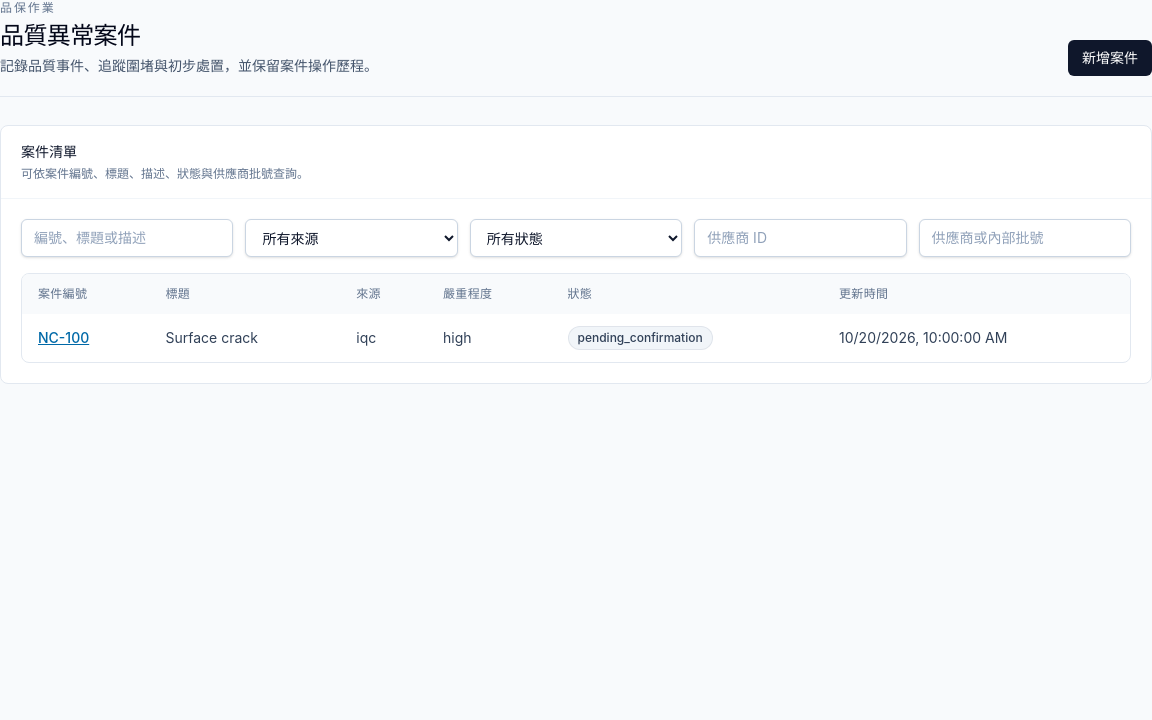
Test: NonconformancePage › prevents closing a case when investigation or dispositions are missing
This screenshot has width=1152, height=720.
Click the button "NC-100".
click(64, 338)  # box [38,328,89,348]
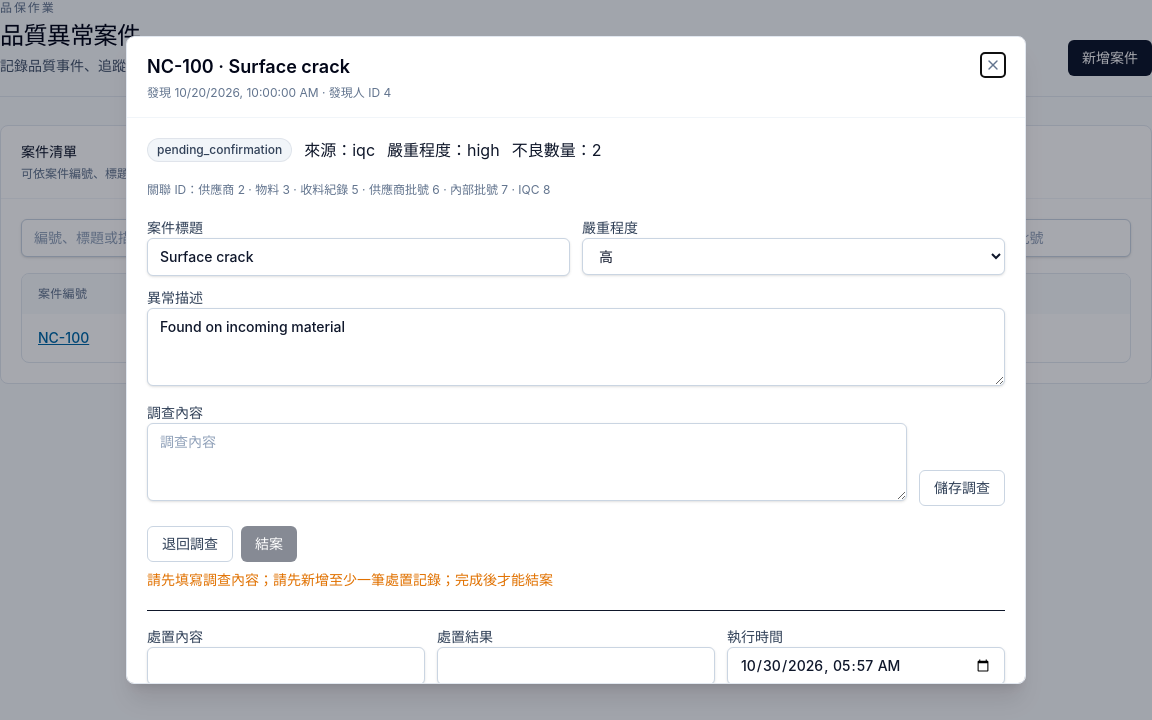
expect the button "結案" is disabled: met, box [241,526,297,562]
expect the text "請先填寫調查內容；請先新增至少一筆處置記錄；完成後才能結案" is shown: met, box [147,571,553,588]
